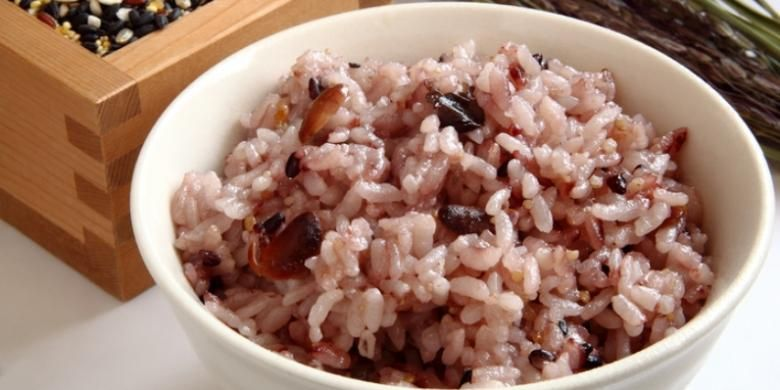Nasi Merah: (197, 34, 711, 384)
